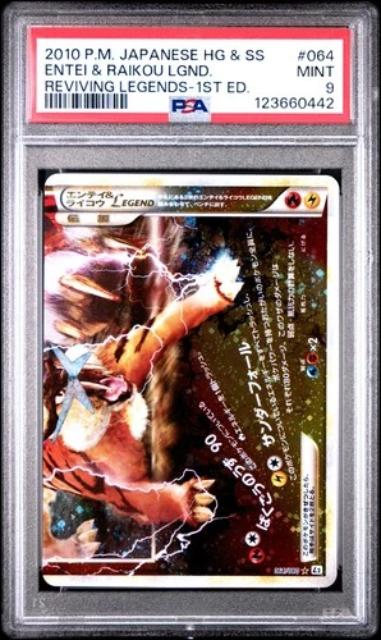Card: (36, 170, 343, 592)
Name: (58, 186, 157, 213)
